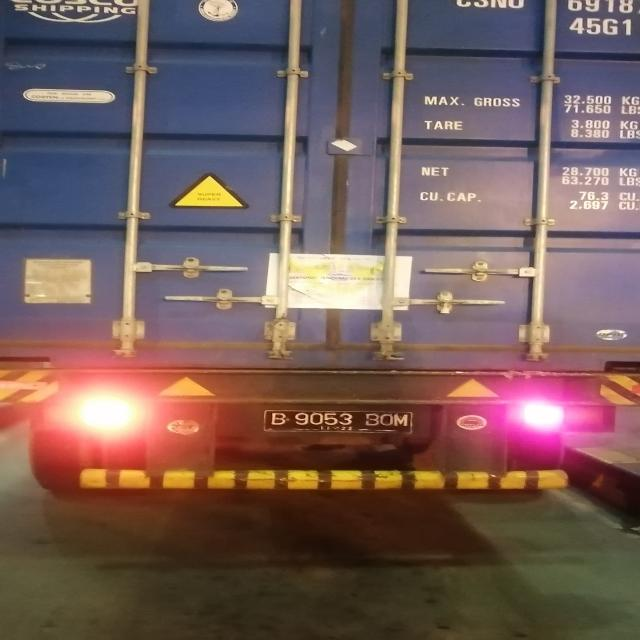seal: (437, 297, 453, 314)
